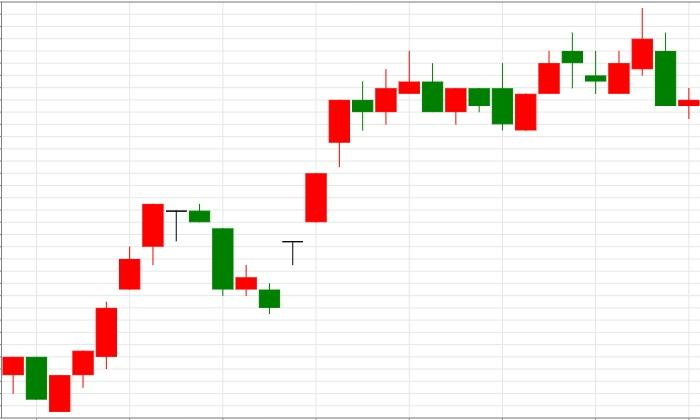evening_star_fall: (49, 204, 211, 413)
shooting_star_fall: (259, 51, 421, 314)
